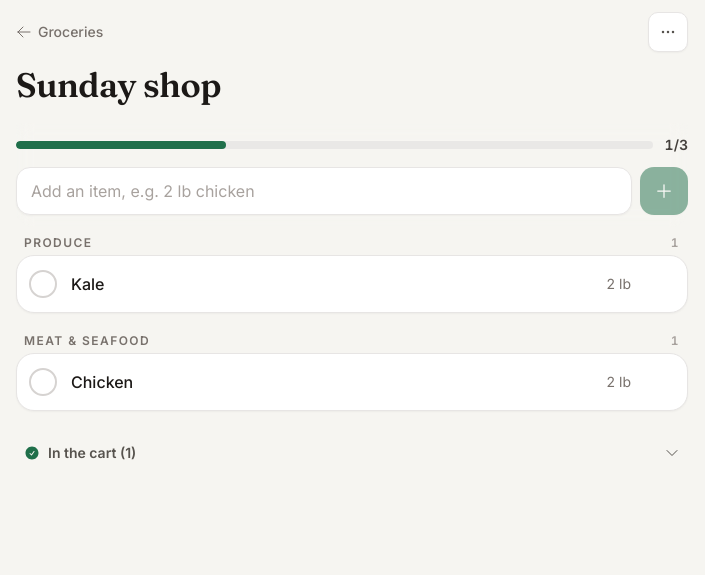
Test case: GroceryListDetailPage › quick-adds a parsed item with Enter
The image size is (705, 575).
In the field labelled "Add an item": (324, 190) [16,166,632,214], type "2 lb chicken thighs"
Then press Enter
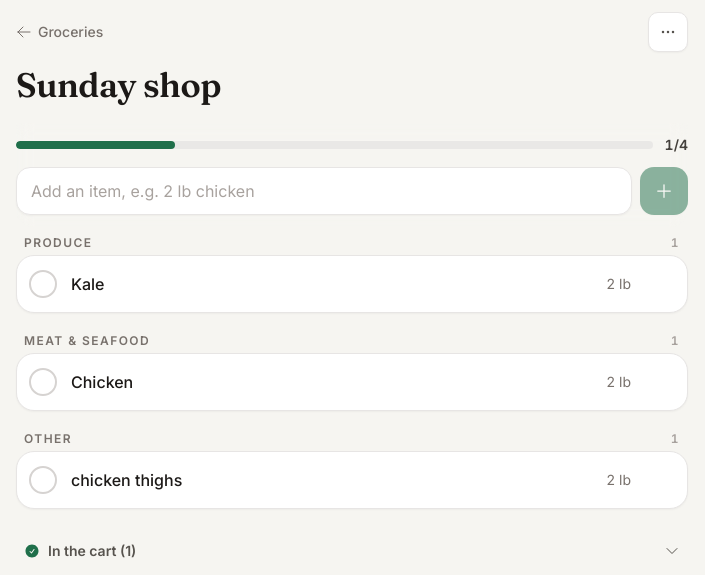
Result: the checkbox labelled "chicken thighs 2 lb" is shown at [21,452,639,508]
